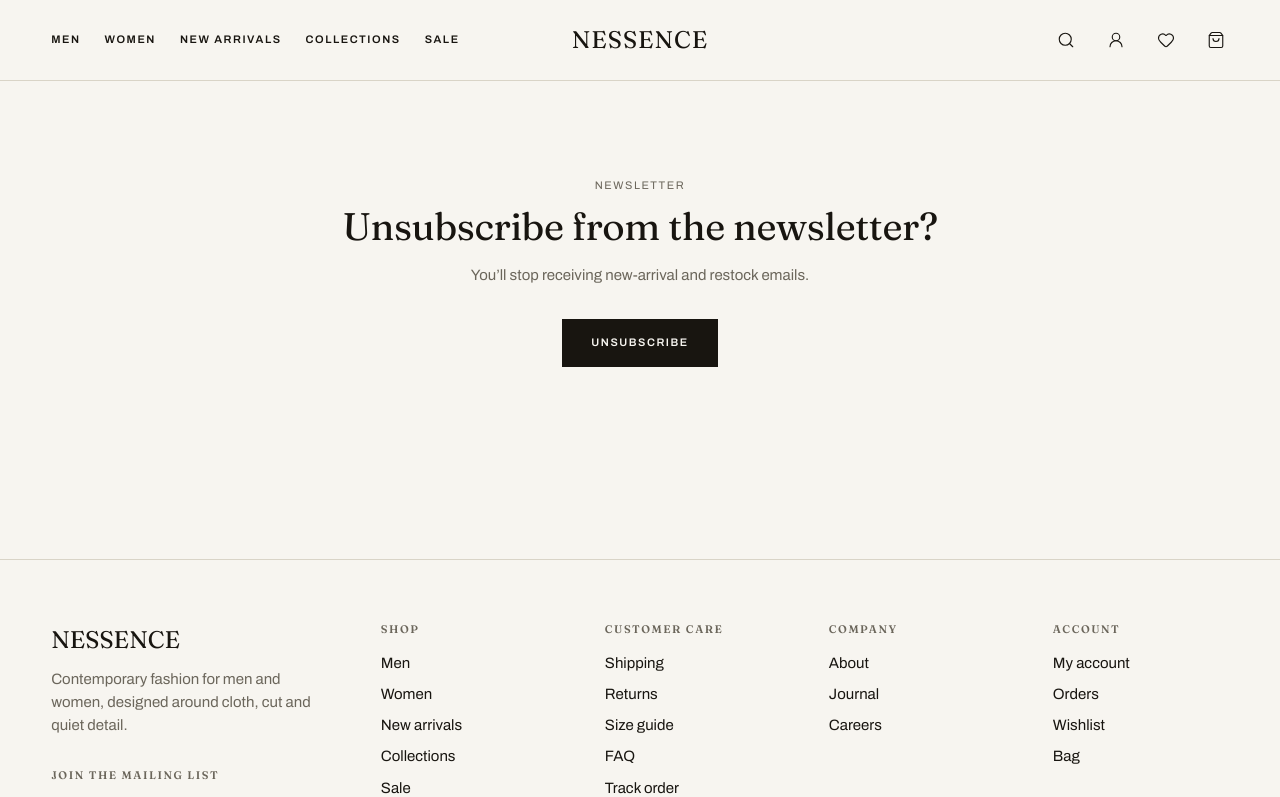
Scenario: newsletter › /newsletter/unsubscribe requires an explicit click (scanners opening the link do nothing)
Click the button "Unsubscribe" at [640, 343], box [562,319,718,367]
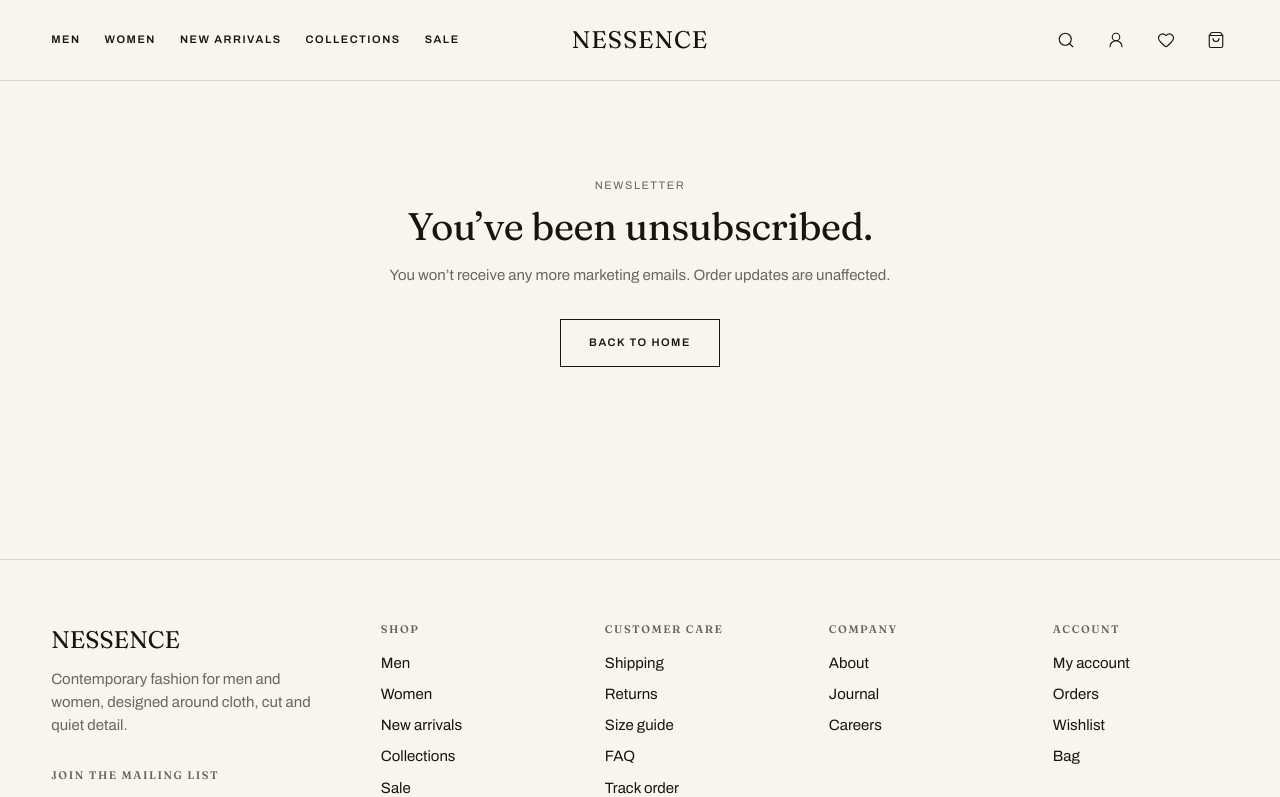
Now the heading "You’ve been unsubscribed." is shown, box [408,202,872,250]
